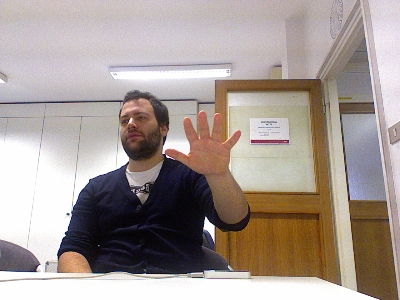布: (162, 108, 241, 176)
